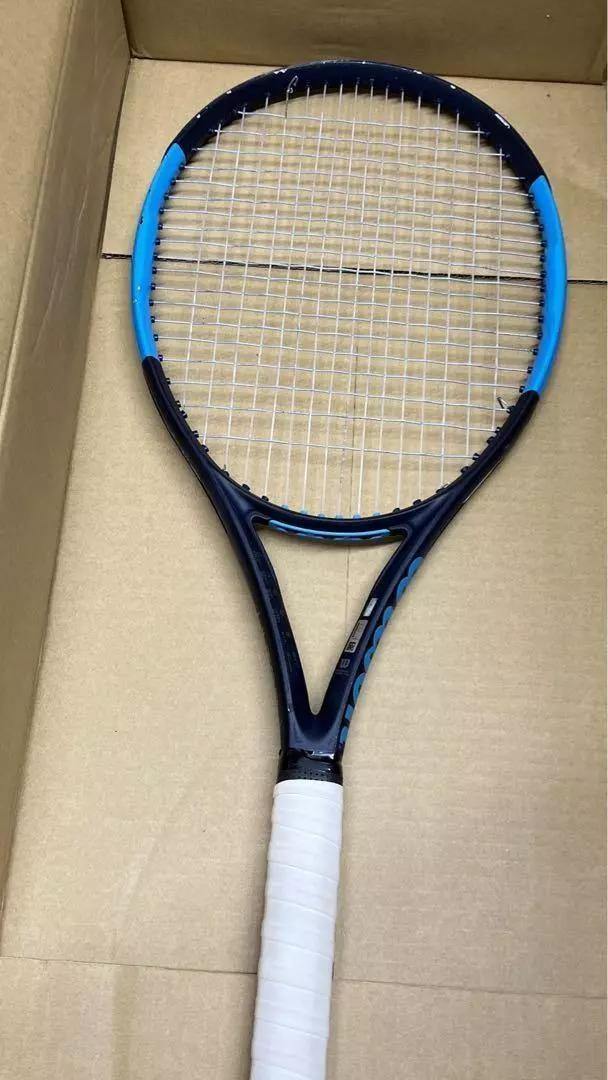Tennis-Racket: (130, 61, 566, 1079)
